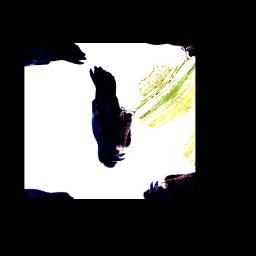Crow: (43, 62, 166, 172)
